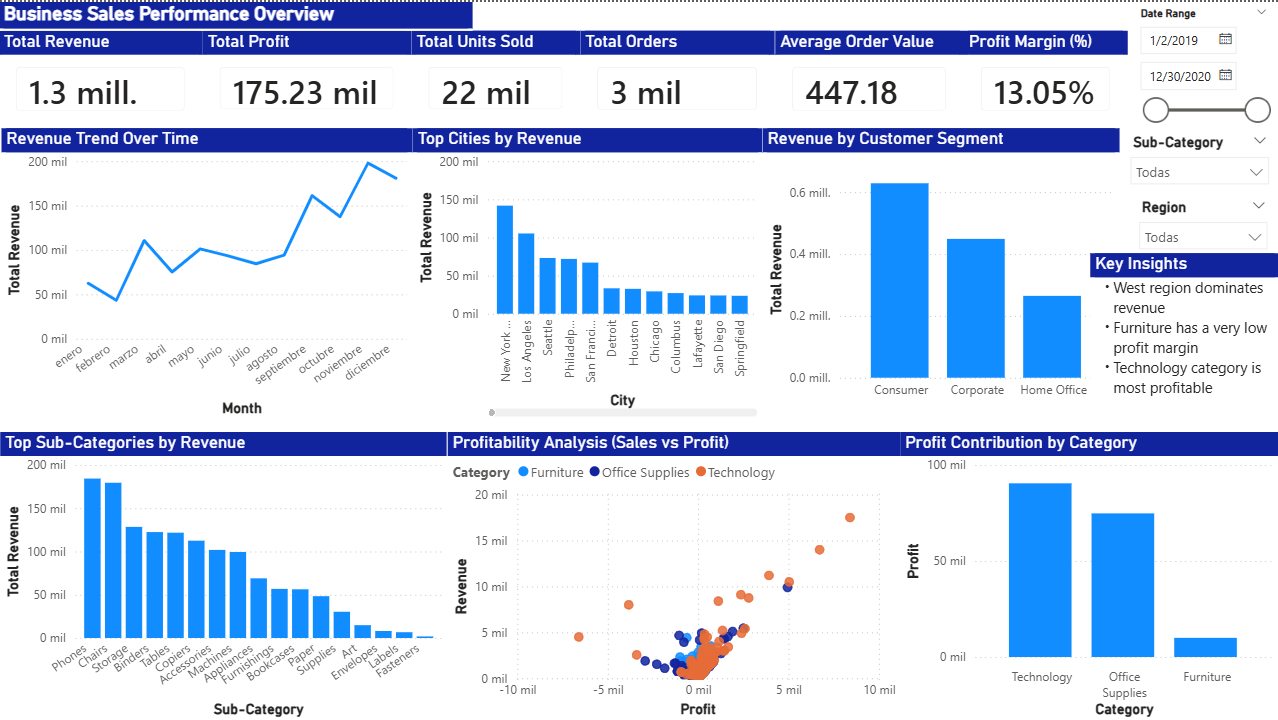

The page's visual inventory and layout, read from the dashboard file:
{"tool":"powerbi","page":{"name":"Página 1","canvas":[1280,720],"ordinal":0},"visuals":[{"type":"cardVisual","title":"Total Revenue","fields":{"Data":["Table1.Total_Sales"]},"box":[0,28.8,203.8,97.5],"z":0},{"type":"cardVisual","title":"Total Orders","fields":{"Data":["Table1.AVG_Value"]},"box":[581.9,29.3,194.4,96.6],"z":1000},{"type":"cardVisual","title":"Total Units Sold","fields":{"Data":["Table1.Total_Quantity"]},"box":[412.6,29.3,168.8,96.1],"z":2000},{"type":"cardVisual","title":"Total Profit","fields":{"Data":["Table1.Total_Profit"]},"box":[204.1,29.3,208.6,96.1],"z":3000},{"type":"cardVisual","title":"Average Order Value","fields":{"Data":["Table1.Avf_order_value"]},"box":[776.2,28.8,188.8,97.5],"z":4000},{"type":"cardVisual","title":"Profit Margin (%)","fields":{"Data":["Table1.Profit_Margin"]},"box":[965,28.8,163.8,97.5],"z":5000},{"type":"lineChart","title":"Revenue Trend Over Time","fields":{"Category":["Table1.Order Date.Variación.Jerarquía de fechas.Año","Table1.Order Date.Variación.Jerarquía de fechas.Mes","Table1.Order Date.Variación.Jerarquía de fechas.Día"],"Y":["Sum(Table1.Sales)"]},"box":[2.2,125.9,410.9,293.5],"z":6000},{"type":"clusteredColumnChart","title":"Top Cities by Revenue","fields":{"Category":["Table1.City"],"Y":["Table1.Total_Sales"]},"box":[414.3,125.9,349.7,293.5],"z":7000},{"type":"clusteredColumnChart","title":"Revenue by Customer Segment","fields":{"Y":["Table1.Total_Sales"],"Category":["Table1.Segment"]},"box":[764.1,125.9,357.1,293.5],"z":8000},{"type":"clusteredColumnChart","title":"Top Sub-Categories by Revenue","fields":{"Y":["Sum(Table1.Sales)"],"Category":["Table1.Sub-Category"]},"box":[1.7,430,446.7,290],"z":9000},{"type":"scatterChart","title":"Profitability Analysis (Sales vs Profit)","fields":{"Y":["Table1.Sales"],"X":["Table1.Profit"],"Series":["Table1.Category"]},"box":[448.3,430,453.3,290],"z":10000},{"type":"clusteredColumnChart","title":"Profit Contribution by Category","fields":{"Y":["Sum(Table1.Profit)"],"Category":["Table1.Category"]},"box":[901.7,430,378.3,290],"z":11000},{"type":"slicer","fields":{"Values":["Table1.Order Date"]},"box":[1128.8,0,151.2,125],"z":12000},{"type":"slicer","fields":{"Values":["Table1.Sub-Category"]},"box":[1121.2,126.2,158.8,65],"z":13000},{"type":"slicer","fields":{"Values":["Table1.Region"]},"box":[1130,191.2,148.8,60],"z":14000},{"type":"textbox","title":"Business Sales Performance Overview","box":[0,0,473.8,28.8],"z":15000},{"type":"textbox","title":"Key Insights","box":[1091.2,251.2,188.8,167.5],"z":15001}]}

Visuals, with their boxes in screenshot pixels (x1, y1, x2, y2), scaled from the page's 1280x720 canvas onto the 1278x720 screenshot:
"Total Revenue" cardVisual: [x1=0, y1=29, x2=203, y2=126]
"Total Orders" cardVisual: [x1=581, y1=29, x2=775, y2=126]
"Total Units Sold" cardVisual: [x1=412, y1=29, x2=580, y2=125]
"Total Profit" cardVisual: [x1=204, y1=29, x2=412, y2=125]
"Average Order Value" cardVisual: [x1=775, y1=29, x2=963, y2=126]
"Profit Margin (%)" cardVisual: [x1=963, y1=29, x2=1127, y2=126]
"Revenue Trend Over Time" lineChart: [x1=2, y1=126, x2=412, y2=419]
"Top Cities by Revenue" clusteredColumnChart: [x1=414, y1=126, x2=763, y2=419]
"Revenue by Customer Segment" clusteredColumnChart: [x1=763, y1=126, x2=1119, y2=419]
"Top Sub-Categories by Revenue" clusteredColumnChart: [x1=2, y1=430, x2=448, y2=719]
"Profitability Analysis (Sales vs Profit)" scatterChart: [x1=448, y1=430, x2=900, y2=719]
"Profit Contribution by Category" clusteredColumnChart: [x1=900, y1=430, x2=1277, y2=719]
slicer - Table1.Order Date: [x1=1127, y1=0, x2=1277, y2=125]
slicer - Table1.Sub-Category: [x1=1119, y1=126, x2=1277, y2=191]
slicer - Table1.Region: [x1=1128, y1=191, x2=1277, y2=251]
"Business Sales Performance Overview" textbox: [x1=0, y1=0, x2=473, y2=29]
"Key Insights" textbox: [x1=1089, y1=251, x2=1277, y2=419]
